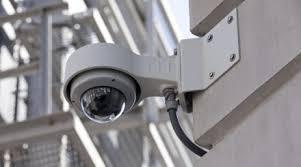Monitor: (62, 25, 216, 134)
